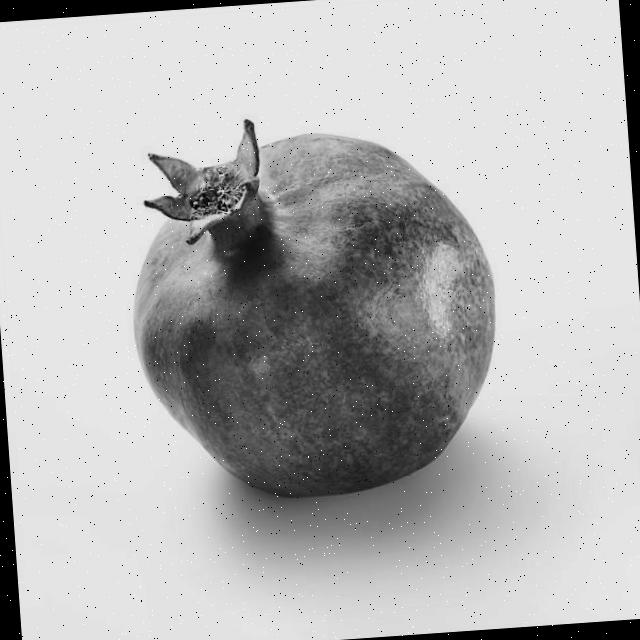Ripe: (115, 100, 512, 510)
